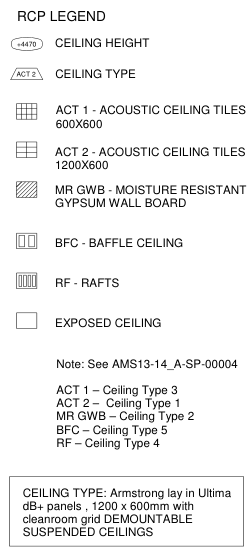hatch: (7, 33, 46, 56), (7, 65, 47, 84), (13, 308, 40, 332), (13, 229, 41, 252), (13, 99, 40, 122), (13, 178, 40, 201), (13, 138, 39, 161), (13, 270, 40, 291)
label: (50, 181, 249, 212), (52, 143, 250, 174), (52, 101, 249, 131), (52, 233, 189, 253), (49, 314, 169, 332), (52, 35, 157, 50), (53, 63, 140, 81), (50, 274, 124, 292)
